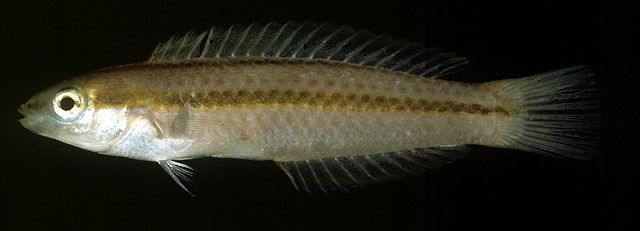fish: (18, 23, 594, 198)
